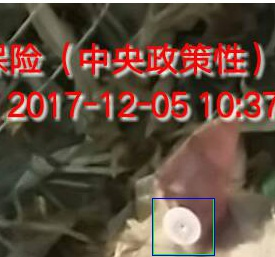text: (153, 198, 213, 254)
